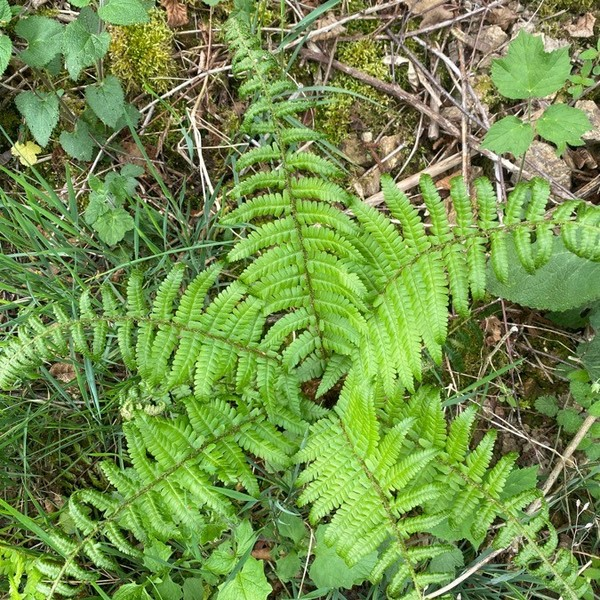obstacle: (82, 45, 447, 576)
